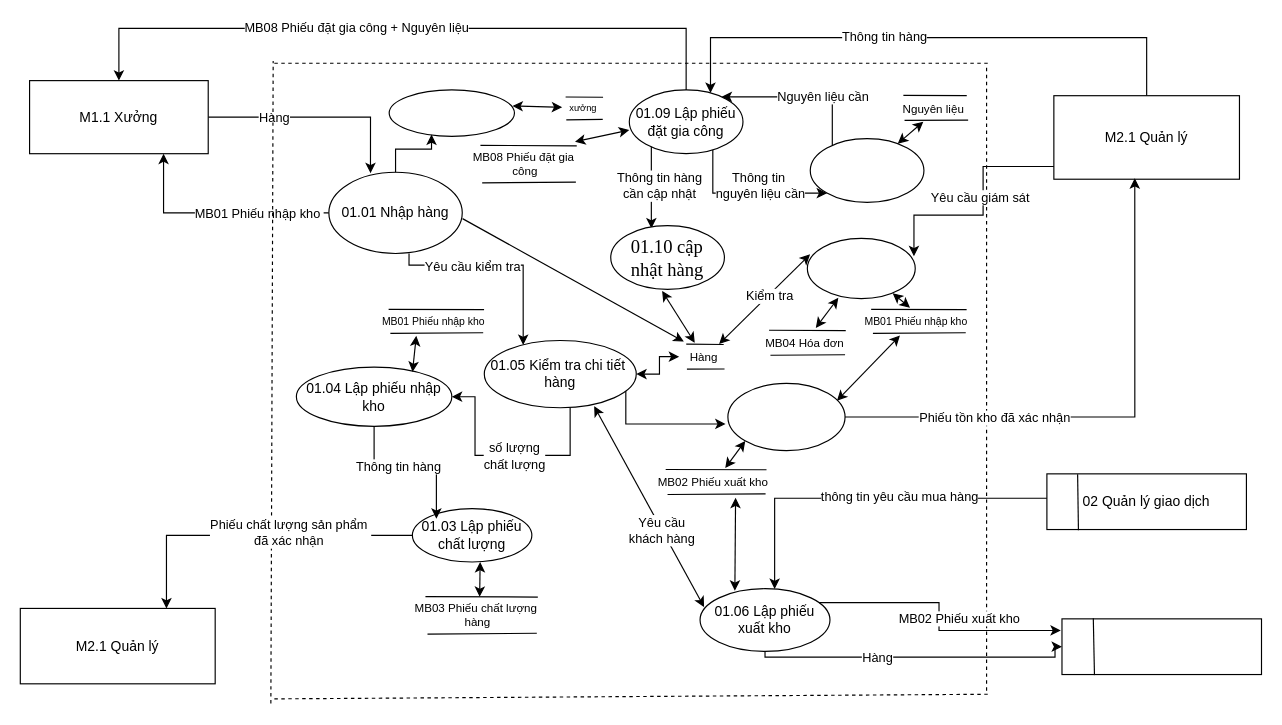
The diagram is 1282 pixels wide and 725 high, and some of its shapes have lost their labels. Each missing label, with the centre of its shape:
01.02 Nhập thông tin xưởng: (451,112)
01.07 Lập phiếu tồn kho: (786,416)
01.08 Lập phiếu giám sát: (860,268)
01.11 . Nhập nguyên liệu: (866,169)
03 Quản lý kế toán: (1161,646)
